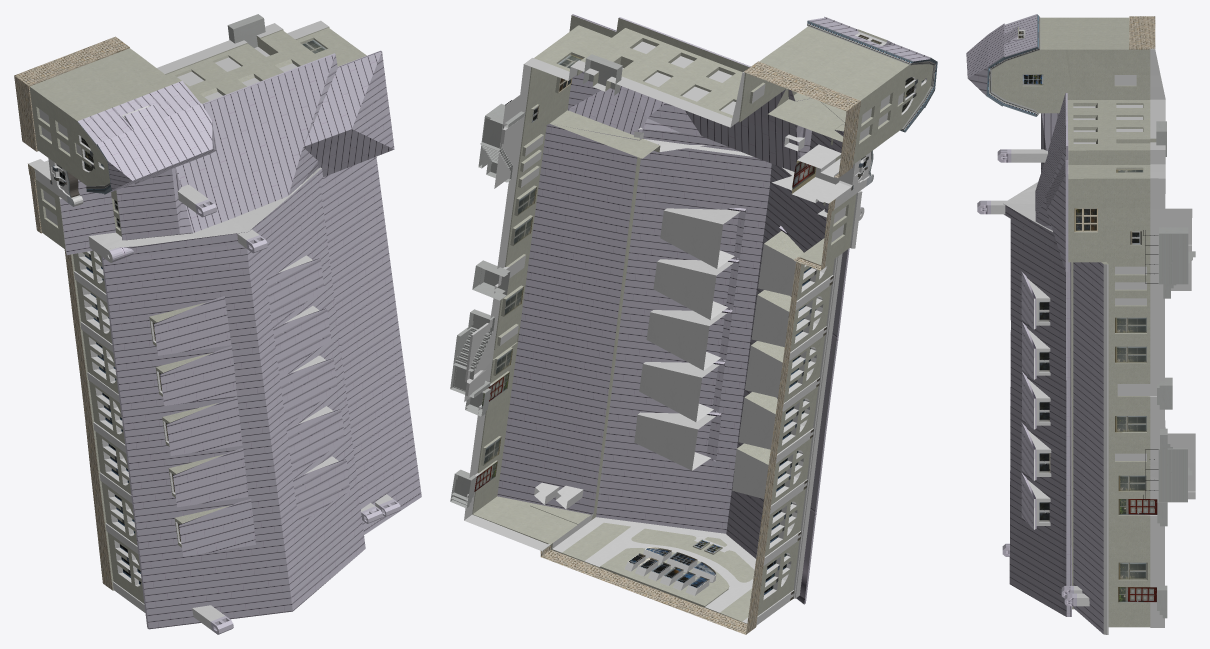
File: Toompea_3.obj
The picture shows the model from 3 angles, left to right: view 1: azimuth 30°, elevation 25°; view 2: azimuth 150°, elevation 25°; view 3: azimuth 270°, elevation 25°; orthographic projection. The views are drawn at different scales.
Parts seen in each view (by area): view 1: polySurface57; view 2: polySurface57; view 3: polySurface57.
Part boxes in pixels (<box>): polySurface57: <box>14,14,421,634</box>; polySurface57: <box>450,14,937,634</box>; polySurface57: <box>966,14,1195,634</box>.
Size of the model in its own units: 28.25 by 39.09 by 15.99.
